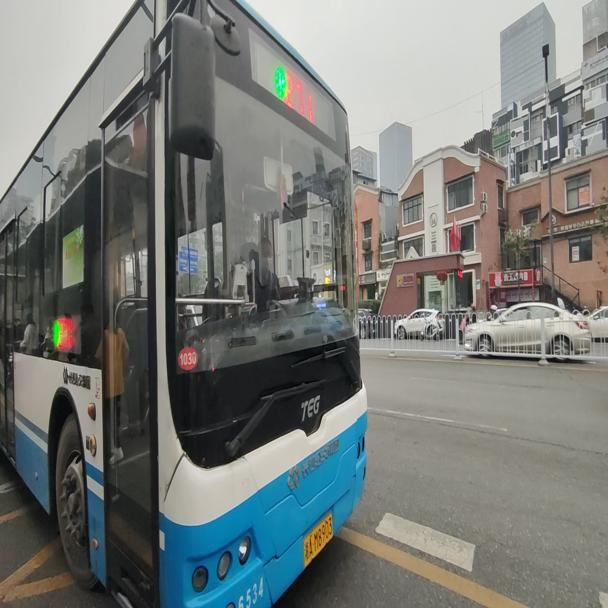bus: (0, 2, 367, 605)
screen: (286, 67, 314, 118)
